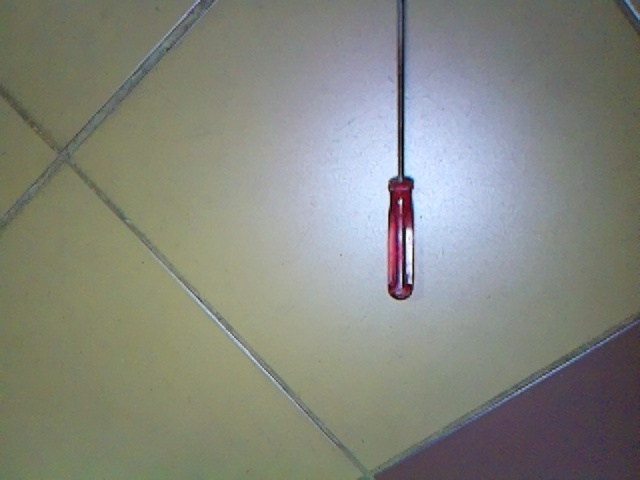redskrew: (380, 1, 422, 301)
